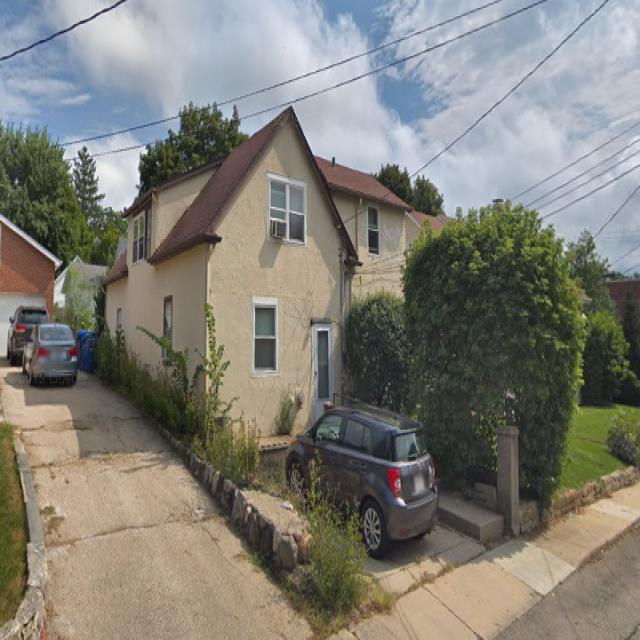House: (100, 106, 416, 442), (0, 212, 64, 356)
